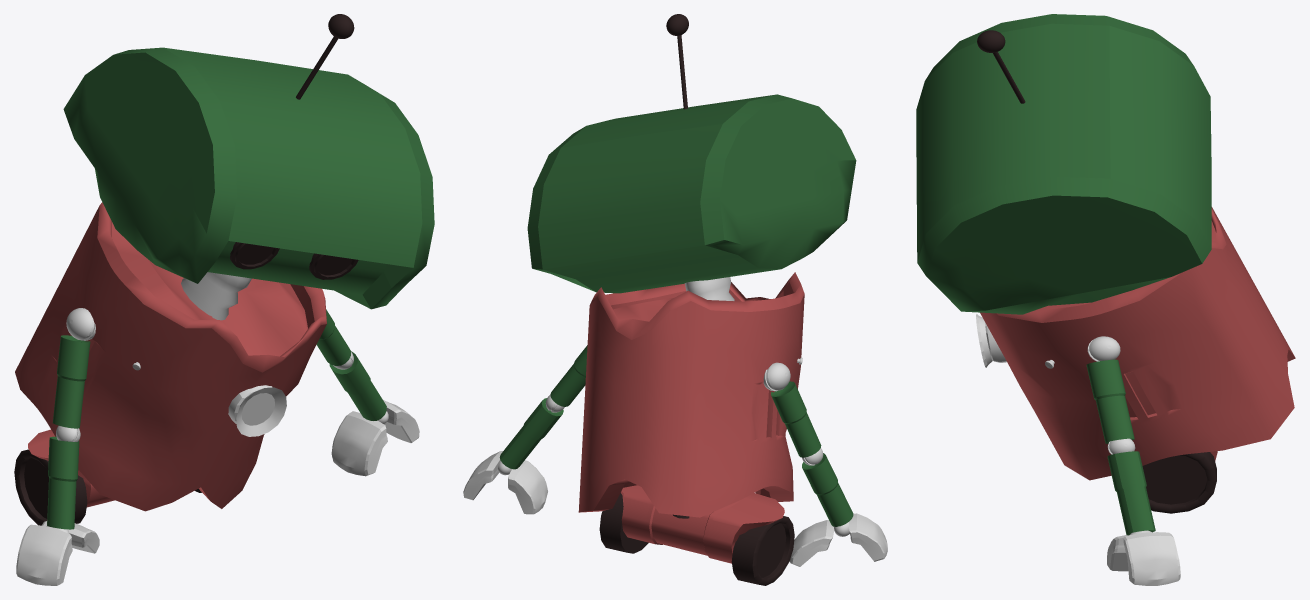
File: S-4MTiredAnimBsce 1.fbx
3 renders of one model, left to right at view 1: azimuth 30°, elevation 25°; view 2: azimuth 150°, elevation 25°; view 3: azimuth 270°, elevation 25°, orthographic. The views are drawn at different scales.
Parts seen in each view (by area): view 1: polySurface2, Chest, RightHand_5, RightHand_3, RightArm9, RightArm8, Wheels_2, Scanner, Torso5, RightArm5, RightArm4, Eyes1 (+5 smaller); view 2: polySurface2, Chest, Hips2, Wheels_2, RightArm9, RightArm8, RightArm5, RightHand_3, Wheels_1, RightHand_6, RightHand_5, RightArm4 (+3 smaller); view 3: polySurface2, Chest, Wheels_1, RightHand_4, RightArm5, RightArm4, Scanner, RightArmJoint3, RightHand_3, AntinaBall.
Boxes of the visible parts, bbox=[...] form: polySurface2: bbox=[63, 47, 434, 309]; Chest: bbox=[15, 202, 326, 511]; RightHand_5: bbox=[16, 524, 72, 585]; RightHand_3: bbox=[331, 411, 387, 476]; RightArm9: bbox=[52, 335, 90, 428]; RightArm8: bbox=[47, 436, 79, 529]; Wheels_2: bbox=[14, 449, 87, 525]; Scanner: bbox=[228, 385, 286, 436]; Torso5: bbox=[181, 272, 251, 320]; RightArm5: bbox=[329, 351, 386, 420]; RightArm4: bbox=[316, 309, 350, 365]; Eyes1: bbox=[230, 242, 279, 269]; polySurface2: bbox=[527, 94, 856, 293]; Chest: bbox=[578, 272, 804, 517]; Hips2: bbox=[621, 485, 784, 563]; Wheels_2: bbox=[731, 516, 794, 585]; RightArm9: bbox=[771, 381, 821, 457]; RightArm8: bbox=[802, 453, 853, 526]; RightArm5: bbox=[499, 398, 563, 469]; RightHand_3: bbox=[508, 460, 547, 514]; Wheels_1: bbox=[599, 493, 648, 553]; RightHand_6: bbox=[789, 520, 834, 566]; RightHand_5: bbox=[849, 513, 887, 561]; RightArm4: bbox=[550, 345, 587, 406]; polySurface2: bbox=[916, 14, 1211, 314]; Chest: bbox=[980, 207, 1295, 480]; Wheels_1: bbox=[1142, 452, 1216, 513]; RightHand_4: bbox=[1123, 532, 1180, 585]; RightArm5: bbox=[1107, 451, 1155, 535]; RightArm4: bbox=[1086, 359, 1134, 443]; Scanner: bbox=[976, 314, 1006, 367]; RightArmJoint3: bbox=[1087, 336, 1120, 361]; RightHand_3: bbox=[1107, 535, 1128, 571]; AntinaBall: bbox=[977, 30, 1005, 52].
Bounding box in the file's own units: 75.19 × 87.8 × 60.61.
